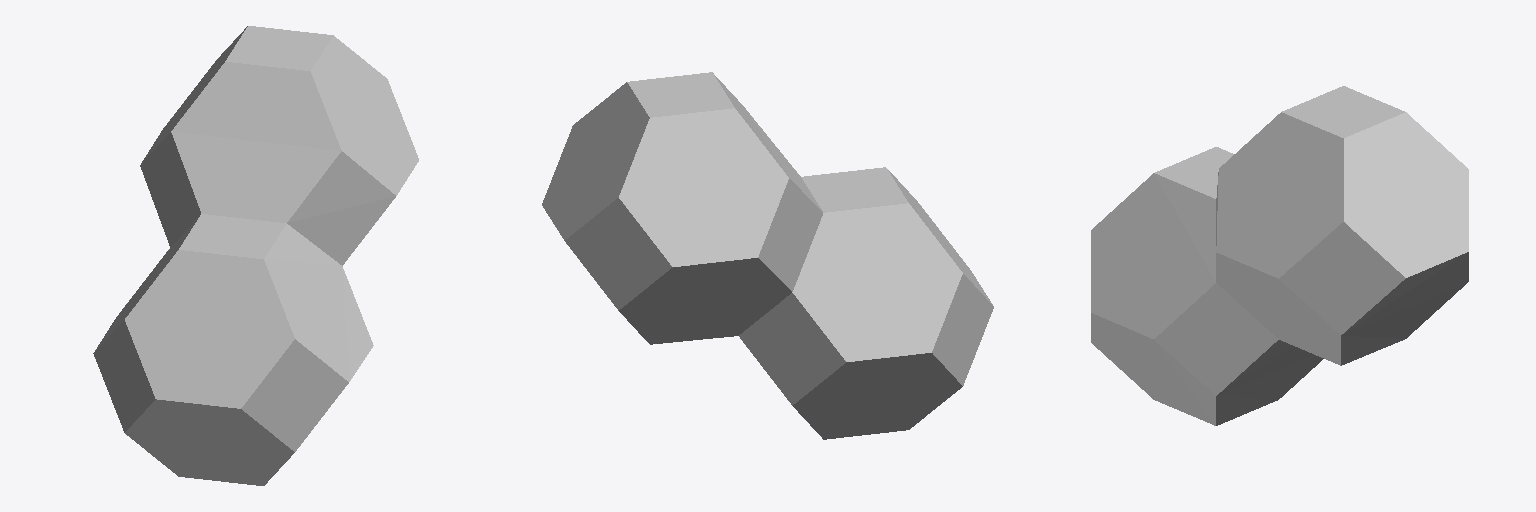
File: fcc3.3.obj
The picture shows the model from 3 angles: view 1: azimuth 30°, elevation 25°; view 2: azimuth 150°, elevation 25°; view 3: azimuth 270°, elevation 25°; orthographic projection.
Parts seen in each view (by area): view 1: Obj1_Mesh1, Obj2_Mesh2; view 2: Obj2_Mesh2, Obj1_Mesh1; view 3: Obj2_Mesh2, Obj1_Mesh1.
Boxes of the visible parts, x1,y1,x2,y2 form: Obj1_Mesh1: [93, 214, 373, 485]; Obj2_Mesh2: [140, 26, 418, 265]; Obj2_Mesh2: [542, 72, 822, 344]; Obj1_Mesh1: [739, 167, 993, 439]; Obj2_Mesh2: [1216, 86, 1468, 365]; Obj1_Mesh1: [1091, 147, 1323, 425].
Size of the model in its own units: 1.83 by 1.83 by 1.83.